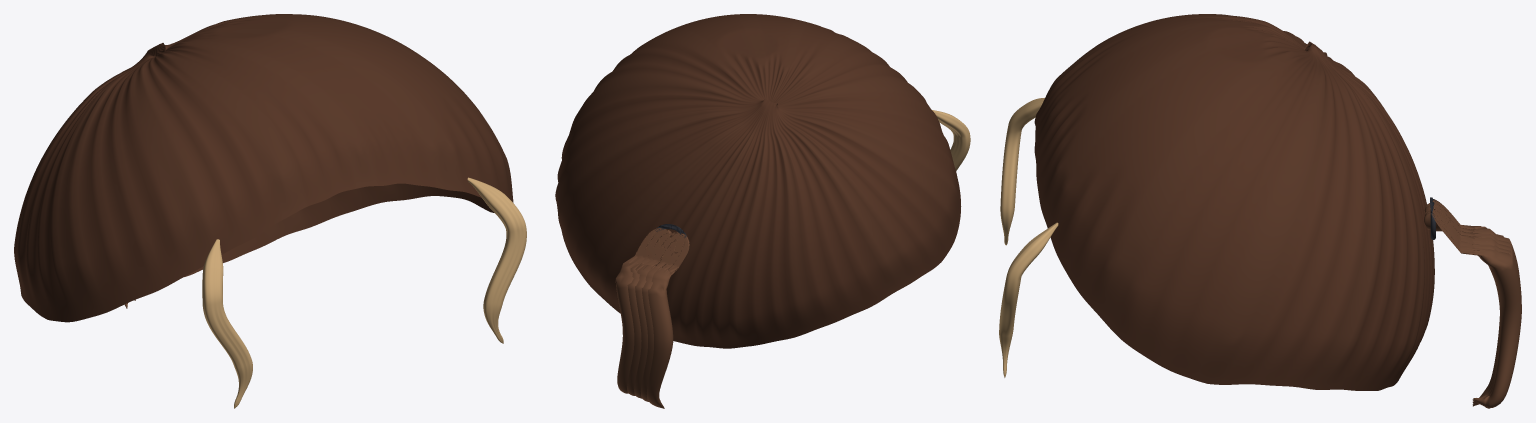
The model's file is Highlights-8f07d0d71950251-hair.glb.
3 views of the same model, side by side, from view 1: azimuth 30°, elevation 25°; view 2: azimuth 150°, elevation 25°; view 3: azimuth 270°, elevation 25° (orthographic). The views are drawn at different scales.
Parts seen in each view (by area): view 1: 226 hair / Hair / crisp pulled roots220.002, 226 hair / Hair / sculpted front locks222.002; view 2: 226 hair / Hair / crisp pulled roots220.002, 226 hair / Hair / chestnut226.001, 226 hair / Hair / sculpted front locks222.002; view 3: 226 hair / Hair / crisp pulled roots220.002, 226 hair / Hair / chestnut226.001, 226 hair / Hair / sculpted front locks222.002.
Part boxes in pixels (<box>): 226 hair / Hair / crisp pulled roots220.002: <box>14,14,513,322</box>; 226 hair / Hair / sculpted front locks222.002: <box>202,177,526,408</box>; 226 hair / Hair / crisp pulled roots220.002: <box>555,14,961,348</box>; 226 hair / Hair / chestnut226.001: <box>615,228,689,408</box>; 226 hair / Hair / sculpted front locks222.002: <box>932,110,970,171</box>; 226 hair / Hair / crisp pulled roots220.002: <box>1034,14,1434,390</box>; 226 hair / Hair / chestnut226.001: <box>1424,199,1521,408</box>; 226 hair / Hair / sculpted front locks222.002: <box>999,98,1058,377</box>.
Bounding box in the file's own units: 0.9675 × 0.7594 × 0.9676.
